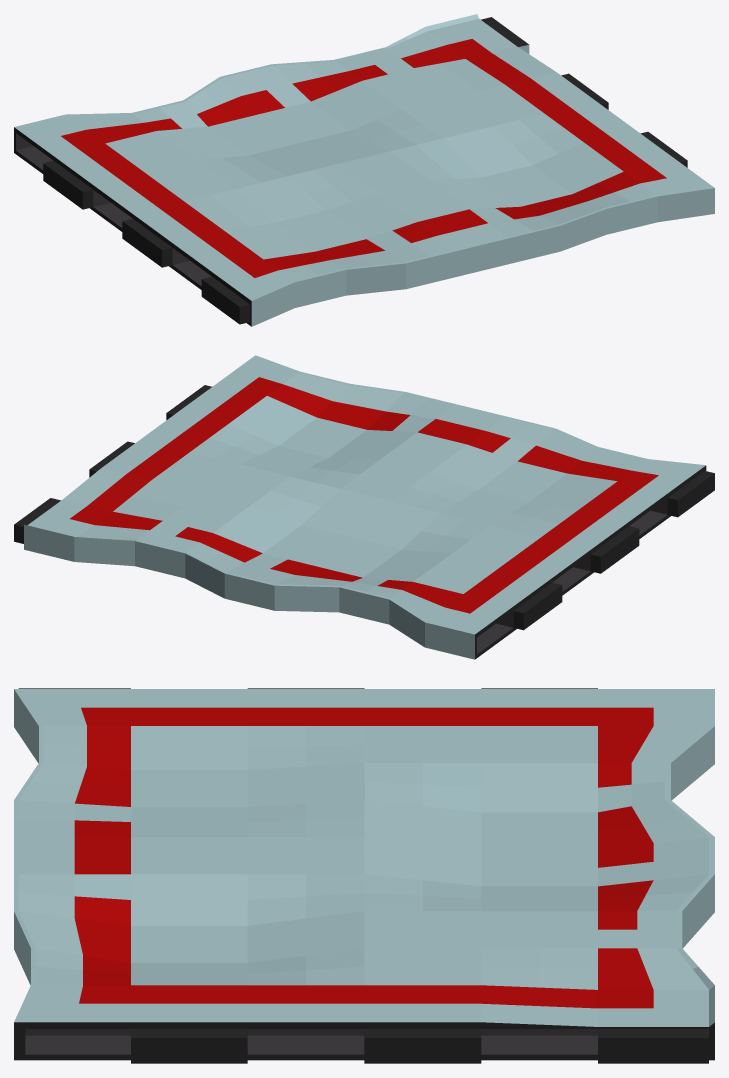
Rendered from Floor Station.fbx.
The picture shows the model from 3 angles, top to bottom: view 1: azimuth 30°, elevation 25°; view 2: azimuth 150°, elevation 25°; view 3: azimuth 270°, elevation 25°; orthographic projection. The views are drawn at different scales.
Parts seen in each view (by area): view 1: Cube; view 2: Cube; view 3: Cube.
Part boxes in pixels (<box>): Cube: <box>14,14,714,326</box>; Cube: <box>14,355,714,659</box>; Cube: <box>14,688,714,1063</box>.
Bounding box in the file's own units: 1402 × 71.2 × 1187.
